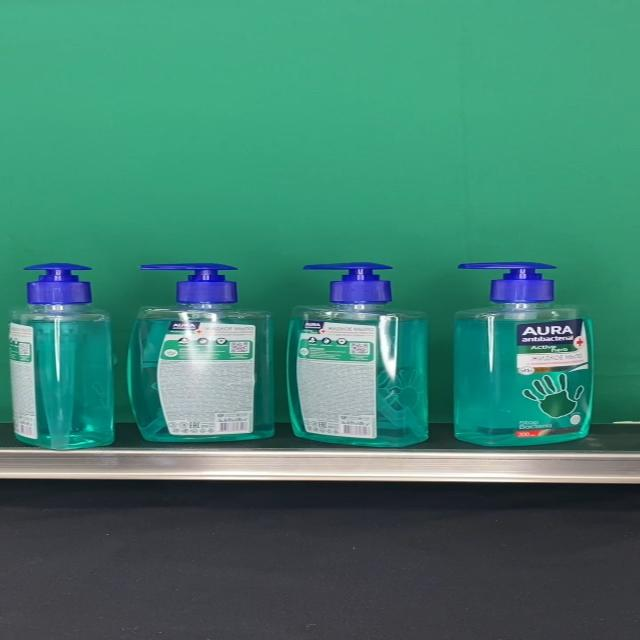Bottle: (128, 264, 274, 443), (286, 263, 428, 447), (452, 263, 593, 447), (7, 263, 114, 450)
Cap: (454, 263, 554, 305), (140, 264, 239, 306), (301, 264, 393, 306), (22, 263, 92, 304)
